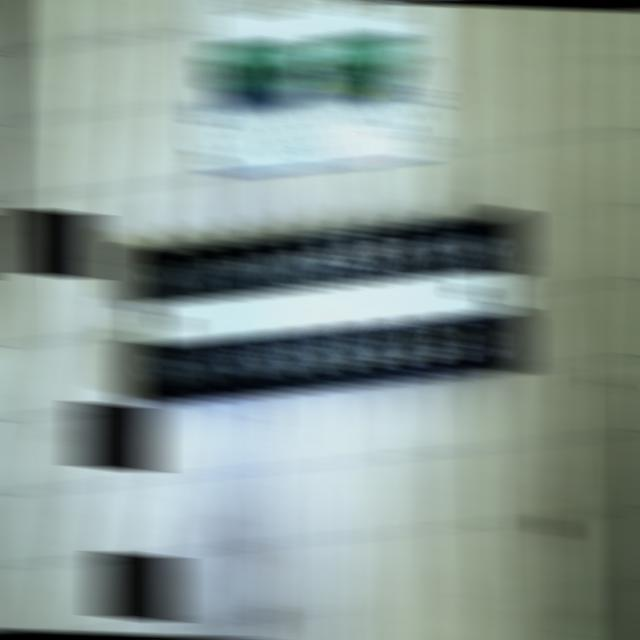Flathead_Block: (106, 207, 541, 407)
Terminal_1: (309, 29, 411, 89), (208, 37, 306, 93)
